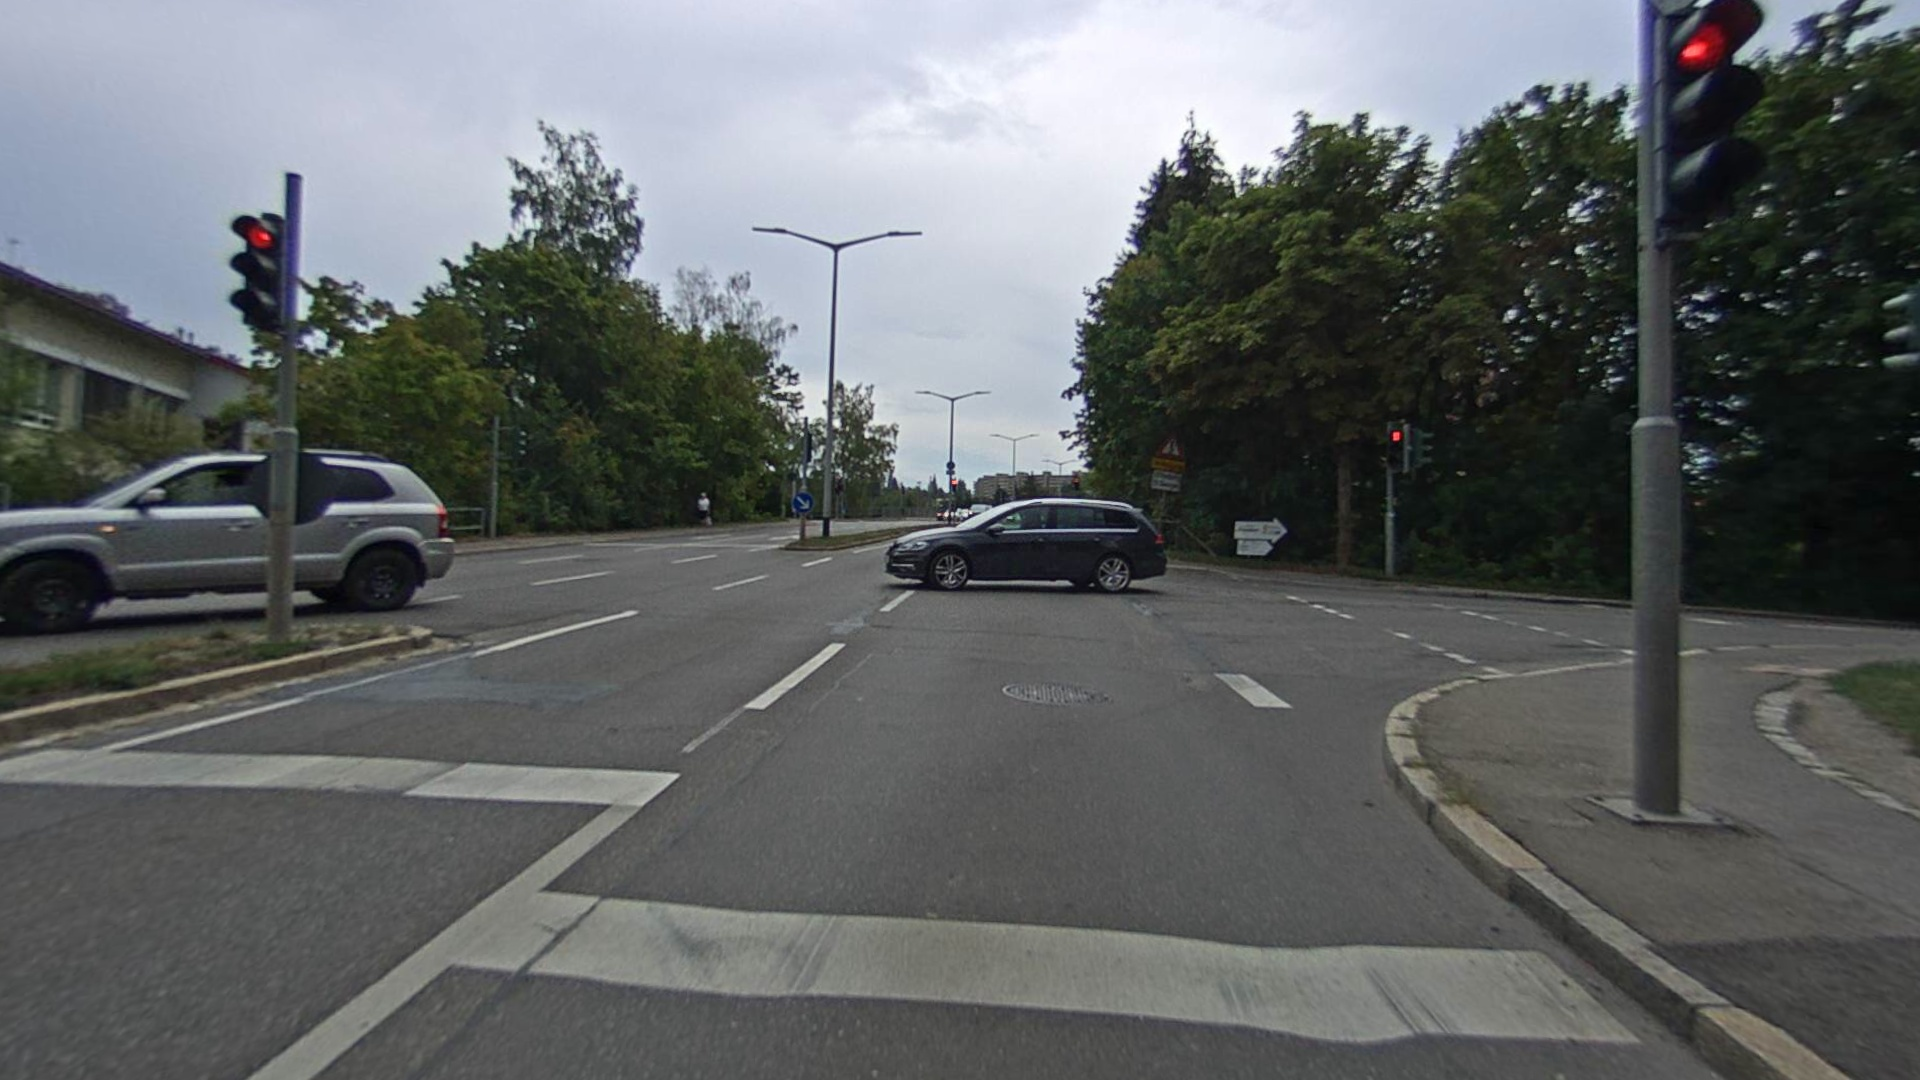car: (884, 495, 1170, 593)
